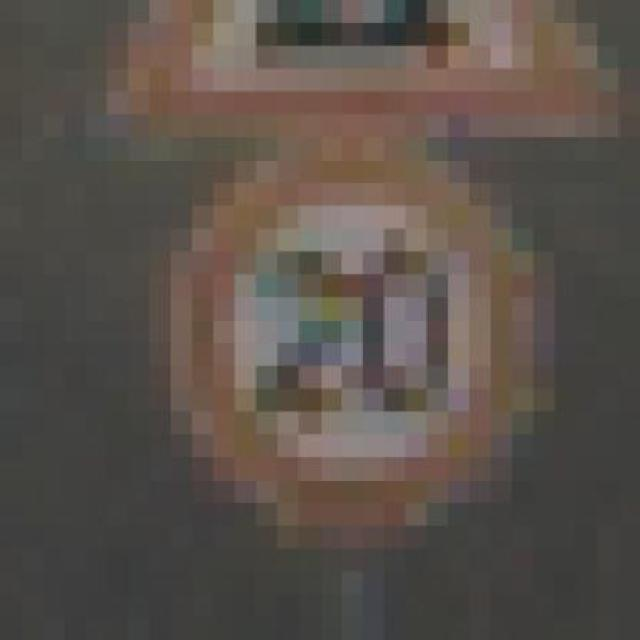Speed Limit 20 KMPh: (107, 137, 598, 549)
